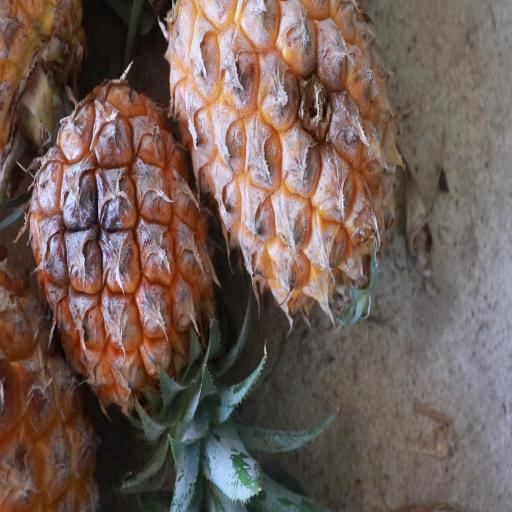Pineapple - v8 v1: (159, 0, 406, 327), (26, 75, 217, 479)
